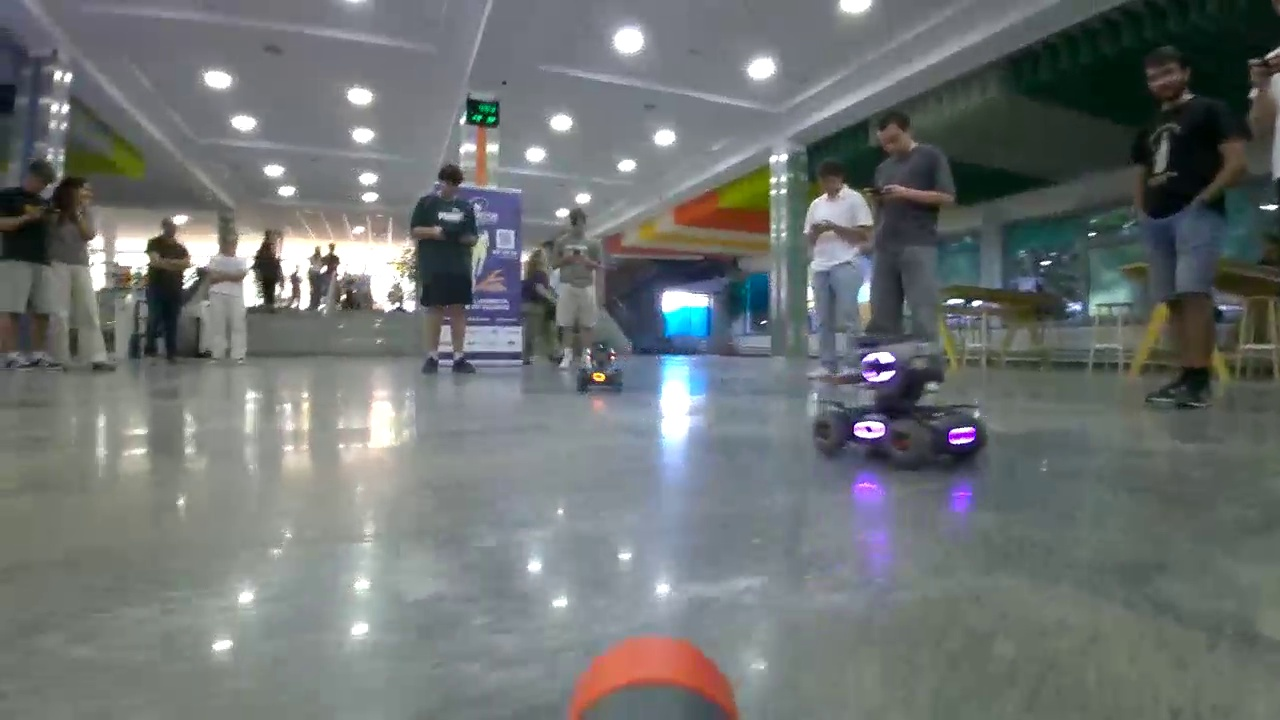robot: (811, 346, 988, 469), (579, 345, 625, 391)
